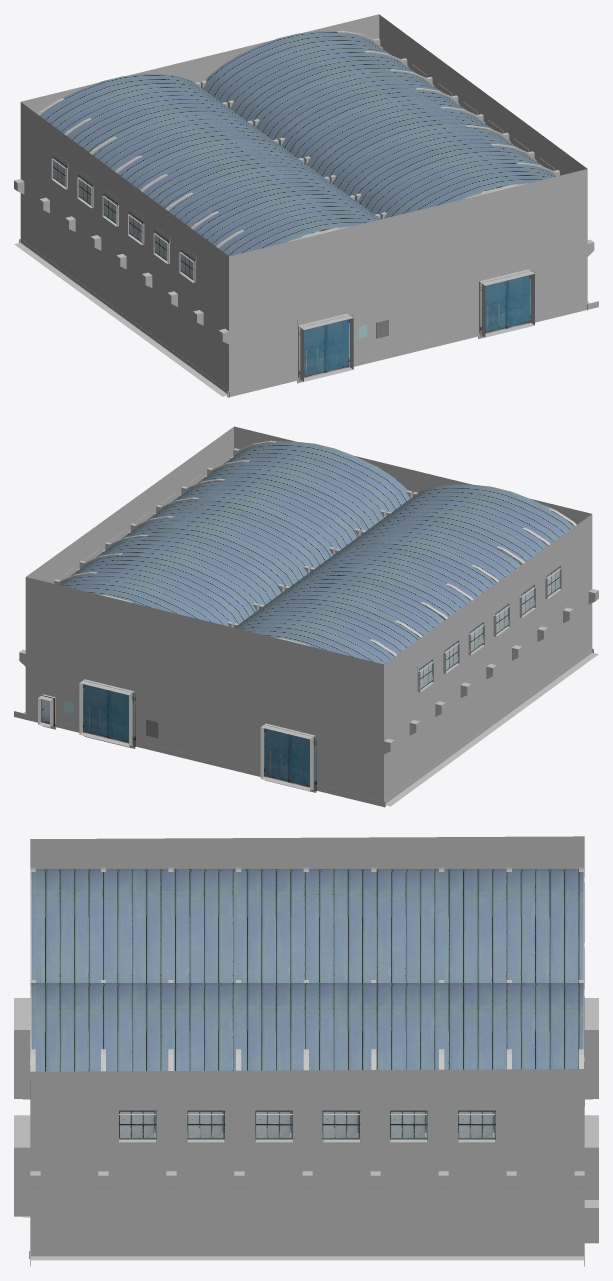
The model's file is bake_garage.FBX.
3 views of the same model, one above another, from view 1: azimuth 30°, elevation 25°; view 2: azimuth 150°, elevation 25°; view 3: azimuth 270°, elevation 25° (orthographic). The views are drawn at different scales.
Visible parts, largest first — view 1: Box046, Cylinder052, Box122, Plane012, Object011, Box028, Object010, Plane001; view 2: Box046, Cylinder052, Box122, Plane012, Object011, Box028, Object010, Plane001; view 3: Box046, Cylinder052, Object010, Object011, Plane001, Box028, Box122.
Boxes of the visible parts, x1,y1,x2,y2 form: Box046: [20, 14, 587, 389]; Cylinder052: [40, 31, 556, 256]; Box122: [14, 46, 594, 391]; Plane012: [299, 270, 534, 381]; Object011: [19, 64, 598, 397]; Box028: [37, 30, 559, 248]; Object010: [53, 156, 194, 280]; Plane001: [14, 231, 589, 396]; Box046: [25, 426, 592, 799]; Cylinder052: [59, 441, 573, 664]; Box122: [19, 456, 598, 801]; Plane012: [82, 680, 316, 791]; Object011: [14, 474, 593, 807]; Box028: [54, 440, 576, 656]; Object010: [419, 566, 560, 690]; Plane001: [23, 631, 598, 806]; Box046: [14, 836, 598, 1251]; Cylinder052: [31, 869, 583, 1071]; Object010: [119, 1110, 495, 1139]; Object011: [22, 990, 592, 1266]; Plane001: [31, 1256, 583, 1260]; Box028: [30, 867, 583, 1071]; Box122: [30, 877, 584, 1188].
Bounding box in the file's own units: 1032 × 384 × 1043.
